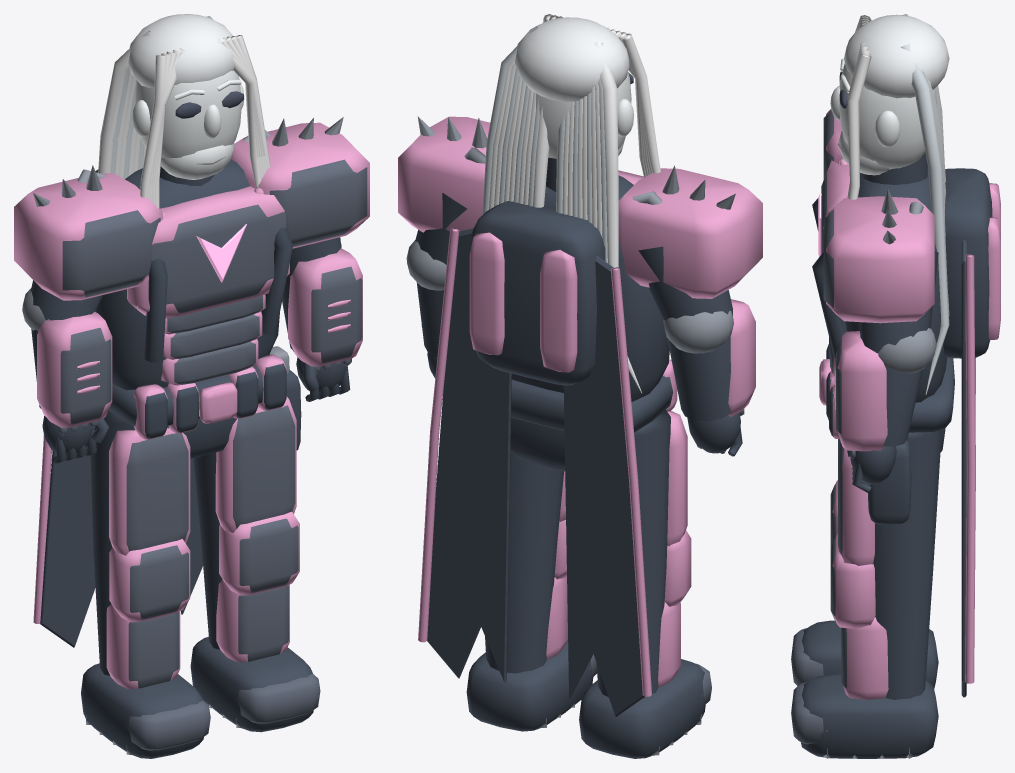
Rendered from erisian.glb.
3 renders of one model, left to right at view 1: azimuth 30°, elevation 25°; view 2: azimuth 150°, elevation 25°; view 3: azimuth 270°, elevation 25°, orthographic. The views are drawn at different scales.
Parts seen in each view (by area): view 1: Breastplate armour, Shoulder leftArm rim, Split battle cloak -1, Thigh leftLeg armour, Thigh rightLeg armour, Undersuit torso, Shoulder leftArm armour, Shoulder rightArm armour, Boot leftLeg, Boot rightLeg, White crown, Shoulder rightArm rim (+46 smaller); view 2: Split battle cloak 1, Split battle cloak -1, Shoulder leftArm rim, Backpack, Trouser leg rightLeg, Shoulder rightArm rim, Boot leftLeg, White crown, Boot rightLeg, Trouser leg leftLeg, Sleeve leftArm, Undersuit torso (+35 smaller); view 3: Shoulder rightArm rim, Trouser leg rightLeg, Boot rightLeg, Backpack, White crown, Forearm rightArm rim, Pink cloak piping 1, Face, Sleeve rightArm, Long ivory hair 21, Shin rightLeg rim, Knee rightLeg rim (+23 smaller).
Boxes of the visible parts, <box> form: Breastplate armour: <box>151,204,285,313</box>; Shoulder leftArm rim: <box>14,173,162,300</box>; Split battle cloak -1: <box>40,446,95,647</box>; Thigh leftLeg armour: <box>126,433,188,551</box>; Thigh rightLeg armour: <box>233,405,295,528</box>; Undersuit torso: <box>96,159,279,390</box>; Shoulder leftArm armour: <box>62,210,160,297</box>; Shoulder rightArm armour: <box>269,159,367,246</box>; Boot leftLeg: <box>81,663,203,758</box>; Boot rightLeg: <box>190,636,313,732</box>; White crown: <box>128,14,233,87</box>; Shoulder rightArm rim: <box>231,122,369,248</box>; Split battle cloak 1: <box>427,228,511,683</box>; Split battle cloak -1: <box>563,256,644,716</box>; Shoulder leftArm rim: <box>618,168,762,298</box>; Backpack: <box>469,201,605,385</box>; Trouser leg rightLeg: <box>485,451,563,673</box>; Shoulder rightArm rim: <box>398,116,490,232</box>; Boot leftLeg: <box>579,659,705,758</box>; White crown: <box>514,17,629,101</box>; Boot rightLeg: <box>466,639,593,731</box>; Trouser leg leftLeg: <box>596,410,670,697</box>; Sleeve leftArm: <box>638,246,732,421</box>; Undersuit torso: <box>511,175,669,401</box>; Shoulder rightArm rim: <box>826,196,934,323</box>; Trouser leg rightLeg: <box>873,429,941,699</box>; Boot rightLeg: <box>801,674,938,758</box>; Backpack: <box>943,168,992,358</box>; White crown: <box>844,14,949,98</box>; Forearm rightArm rim: <box>837,331,887,451</box>; Pink cloak piping 1: <box>965,254,975,683</box>; Face: <box>839,63,936,169</box>; Sleeve rightArm: <box>859,251,938,446</box>; Long ivory hair 21: <box>900,44,949,394</box>; Shin rightLeg rim: <box>843,617,888,699</box>; Knee rightLeg rim: <box>832,534,875,628</box>.
Size of the model in its own units: 2.05 by 4.23 by 1.15.
